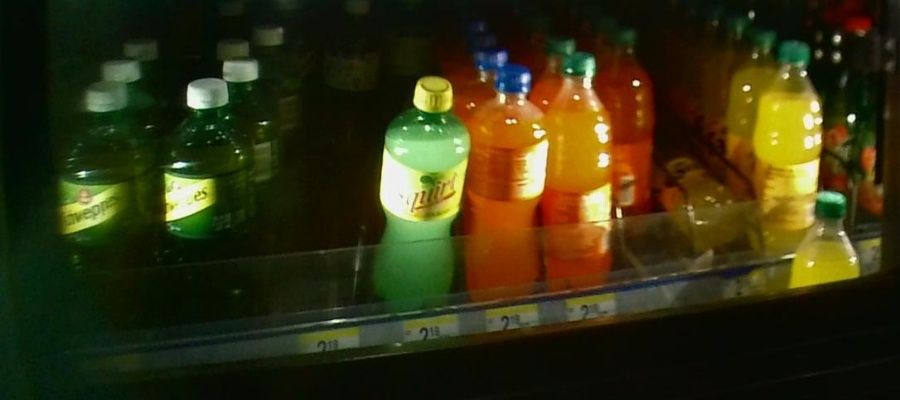bottle: (57, 77, 150, 347), (155, 81, 253, 336), (371, 68, 470, 320), (472, 57, 548, 313), (753, 41, 822, 259), (549, 52, 608, 304), (612, 24, 656, 254), (691, 157, 743, 266)
